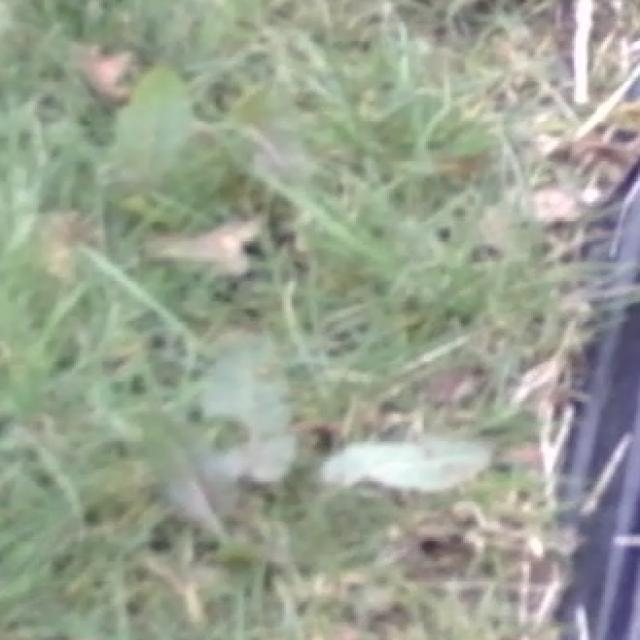organic waste: (96, 320, 485, 550), (56, 59, 221, 183)
